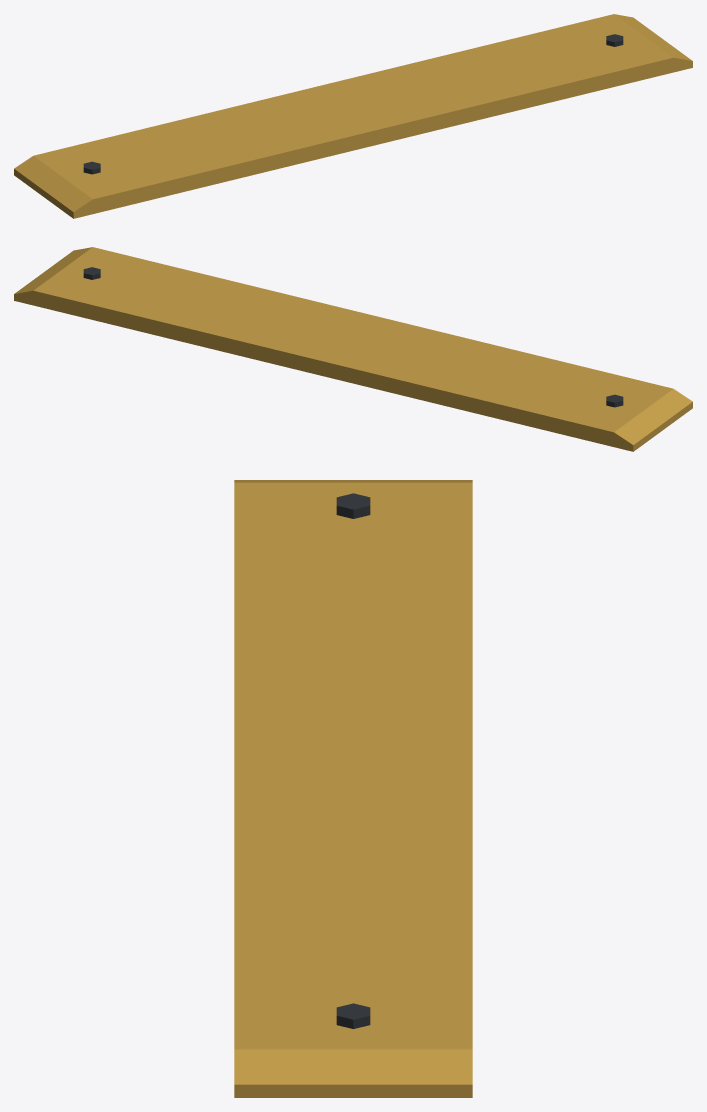
The model's file is SM_LPI_Open_Threshold_01.fbx.
3 views of the same model, one above another, from view 1: azimuth 30°, elevation 25°; view 2: azimuth 150°, elevation 25°; view 3: azimuth 270°, elevation 25° (orthographic). The views are drawn at different scales.
Visible parts, largest first — view 1: SM_LPI_Open_Threshold_01; view 2: SM_LPI_Open_Threshold_01; view 3: SM_LPI_Open_Threshold_01.
Boxes of the visible parts, x1,y1,x2,y2 form: SM_LPI_Open_Threshold_01: (14,14,692,218); SM_LPI_Open_Threshold_01: (14,247,692,451); SM_LPI_Open_Threshold_01: (234,480,472,1097).
Size of the model in its own units: 0.96 by 0.029 by 0.16.
